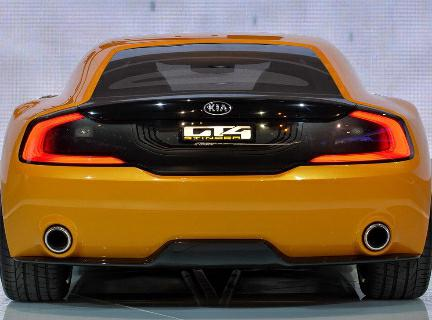起亚-GT4Stinger: (4, 32, 432, 310)
